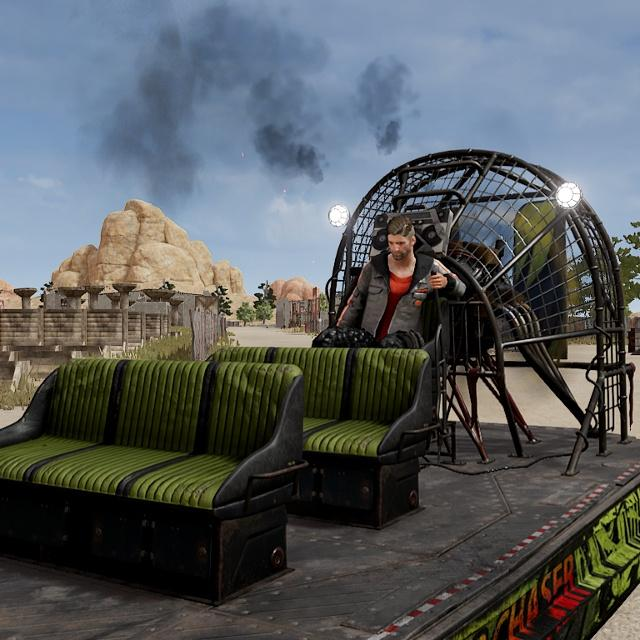head: (383, 213, 417, 261)
people: (312, 214, 467, 349)
